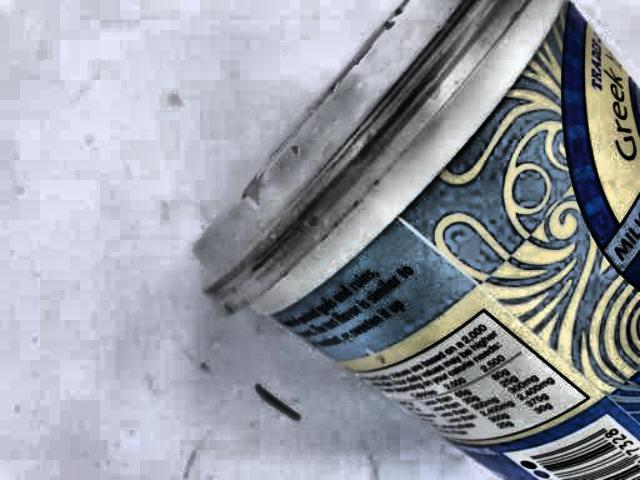Plastic: (176, 0, 640, 480)
